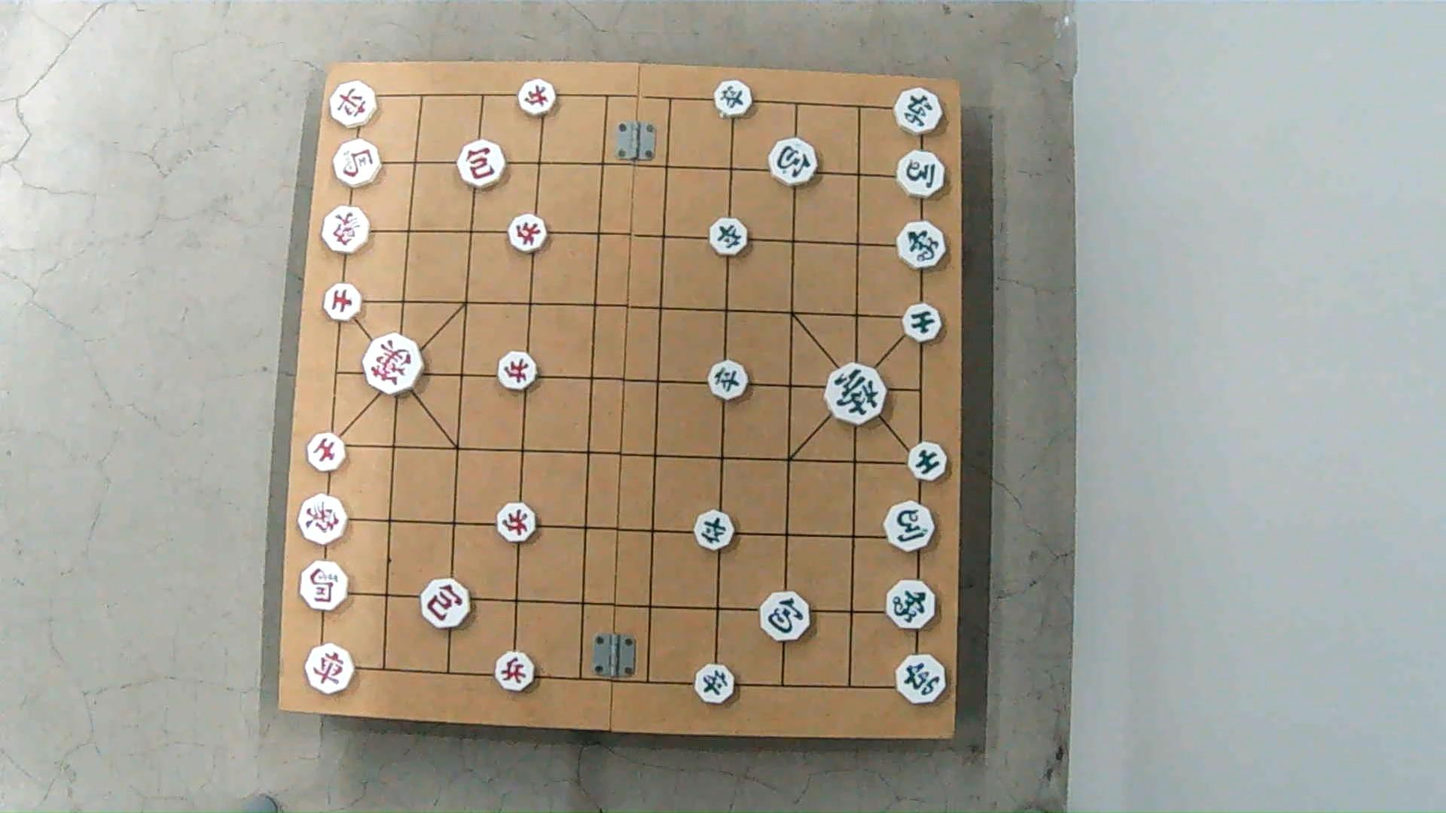cha_green: (898, 654, 948, 702), (892, 89, 942, 132)
cha_red: (305, 647, 356, 693), (331, 84, 380, 127)
jol_green: (691, 511, 736, 548), (695, 665, 739, 702), (707, 218, 751, 253), (706, 363, 749, 398), (714, 83, 756, 117)
jol_red: (506, 211, 551, 251), (493, 507, 536, 544), (491, 655, 535, 690), (495, 354, 538, 389), (520, 82, 560, 115)
ma_green: (880, 502, 934, 548), (895, 153, 947, 197)
ma_red: (300, 563, 350, 610), (335, 141, 384, 186)
po_green: (762, 591, 816, 641), (770, 136, 820, 187)
po_red: (419, 580, 471, 625), (456, 145, 506, 187)
sa_green: (906, 443, 950, 479), (900, 306, 941, 342)
sa_red: (304, 432, 346, 470), (323, 284, 362, 318)
sang_green: (893, 219, 946, 270), (887, 581, 940, 627)
sang_red: (297, 492, 348, 545), (319, 208, 370, 253)
wang_green: (825, 369, 887, 424)
wang_red: (363, 333, 428, 391)
